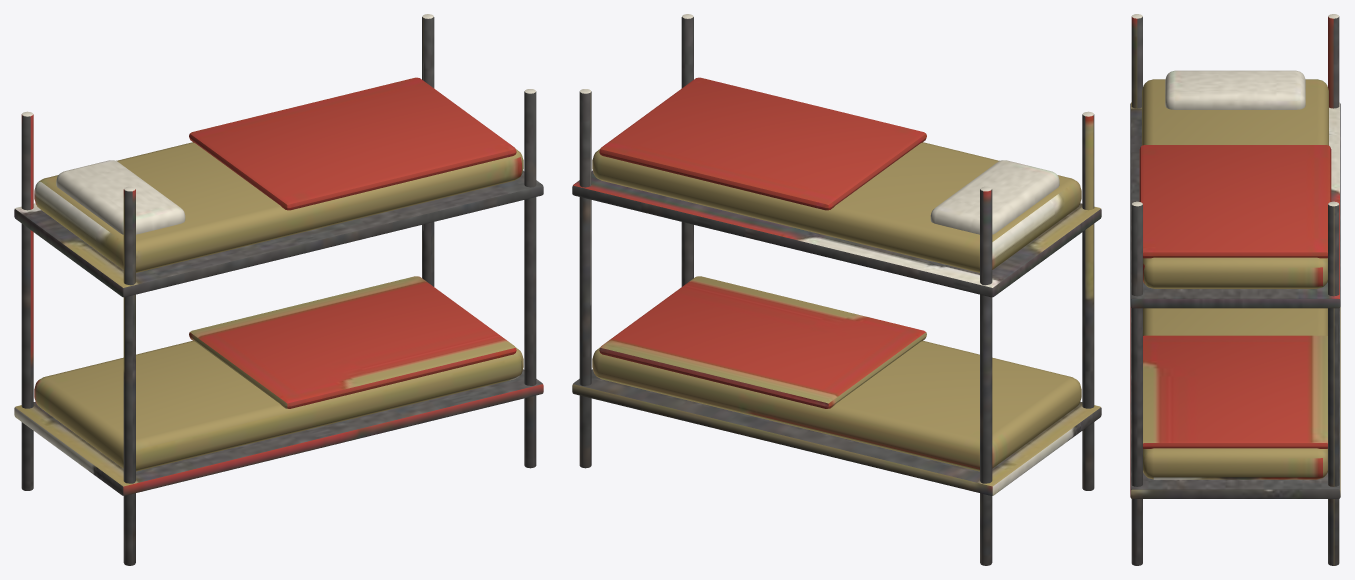
Rendered from bunk.glb.
The picture shows the model from 3 angles, left to right: view 1: azimuth 30°, elevation 25°; view 2: azimuth 150°, elevation 25°; view 3: azimuth 270°, elevation 25°; orthographic projection. The views are drawn at different scales.
Parts seen in each view (by area): view 1: mattress0.35, blanket1.25, blanket0.35, mattress1.25, frame0.35, frame1.25, pillow, post-0.95-0.42, post0.95-0.42, post-0.950.42, post0.950.42; view 2: mattress0.35, blanket1.25, blanket0.35, mattress1.25, frame0.35, frame1.25, pillow, post-0.950.42, post0.950.42, post-0.95-0.42, post0.95-0.42; view 3: blanket1.25, blanket0.35, mattress1.25, mattress0.35, frame1.25, pillow, frame0.35, post0.95-0.42, post0.950.42, post-0.95-0.42, post-0.950.42.
Part boxes in pixels (x1,y1,x2,y2): mattress0.35: (34,341,523,471); blanket1.25: (189,77,516,210); blanket0.35: (189,276,516,408); mattress1.25: (34,142,523,272); frame0.35: (14,369,543,495); frame1.25: (14,170,543,297); pillow: (56,160,185,234); post-0.95-0.42: (123,186,135,565); post0.95-0.42: (524,89,536,468); post-0.950.42: (21,111,33,490); post0.950.42: (422,14,434,286); mattress0.35: (592,341,1081,471); blanket1.25: (599,77,926,210); blanket0.35: (599,276,926,408); mattress1.25: (592,142,1081,272); frame0.35: (572,369,1101,495); frame1.25: (572,170,1101,297); pillow: (930,160,1059,234); post-0.950.42: (980,186,992,565); post0.950.42: (579,89,591,468); post-0.95-0.42: (1082,111,1094,490); post0.95-0.42: (681,14,693,286); blanket1.25: (1139,145,1331,258); blanket0.35: (1143,335,1327,448); mattress1.25: (1142,79,1328,288); mattress0.35: (1143,308,1327,479); frame1.25: (1130,102,1340,308); pillow: (1165,70,1305,109); frame0.35: (1130,307,1340,498); post0.95-0.42: (1131,201,1142,565); post0.950.42: (1328,201,1339,565); post-0.95-0.42: (1131,14,1142,108); post-0.950.42: (1328,14,1339,108).
Bounding box in the file's own units: 2 × 1.7 × 0.9.
1 material, 1 textured.
